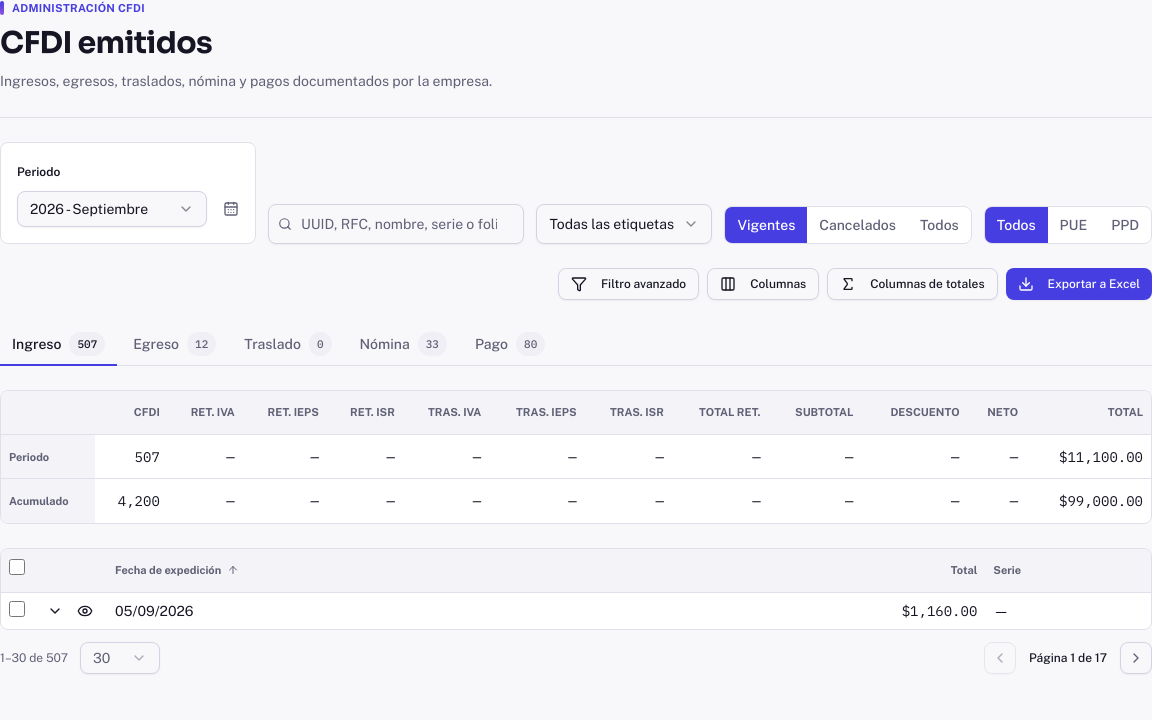
Test case: CfdiPantalla › conceptos y visor › el botón del visor abre la ventana del CFDI y cerrarla la quita
Click the button named "Abrir visor del CFDI" at (85, 611), box [71,597,99,625]
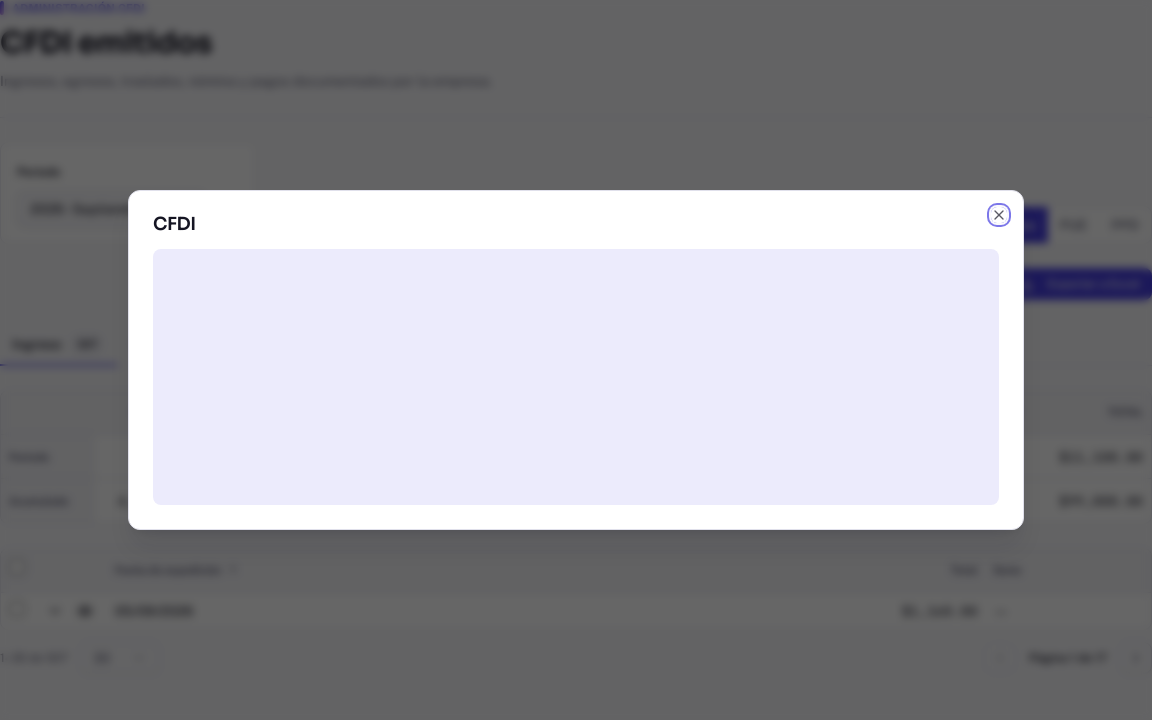
Now the dialog is shown, box [128,190,1024,530]
Click the button named "Cerrar" at (999, 215), box [991,207,1007,223]
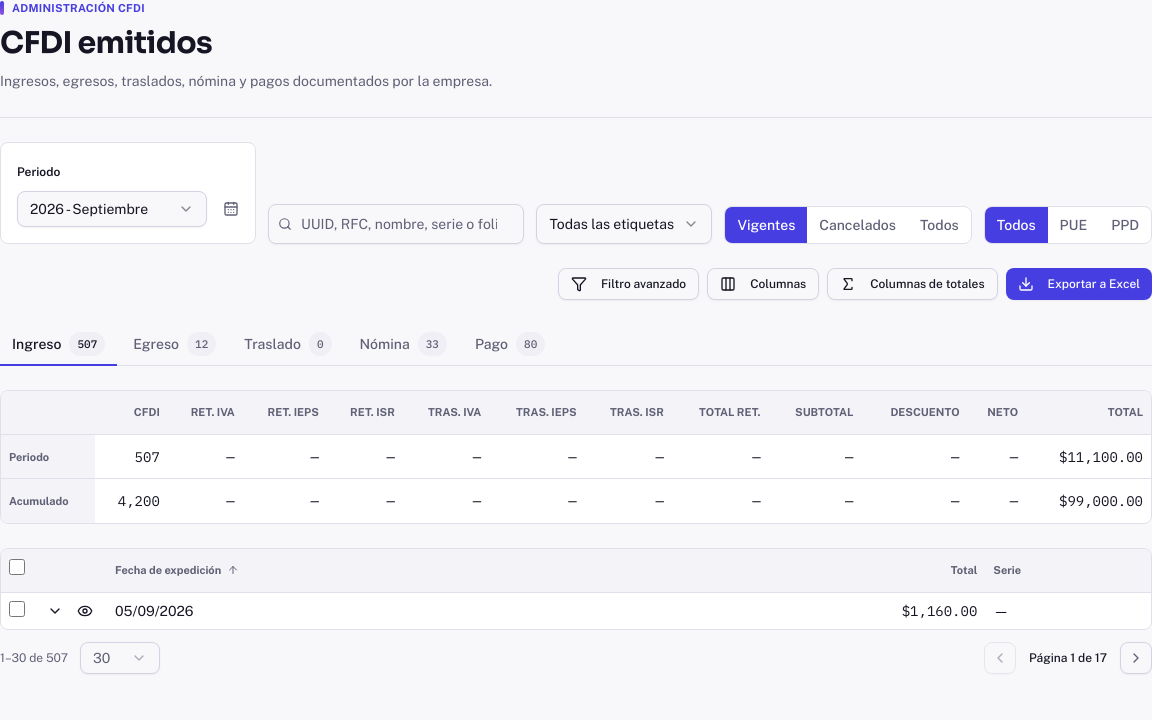
Now the dialog is gone
